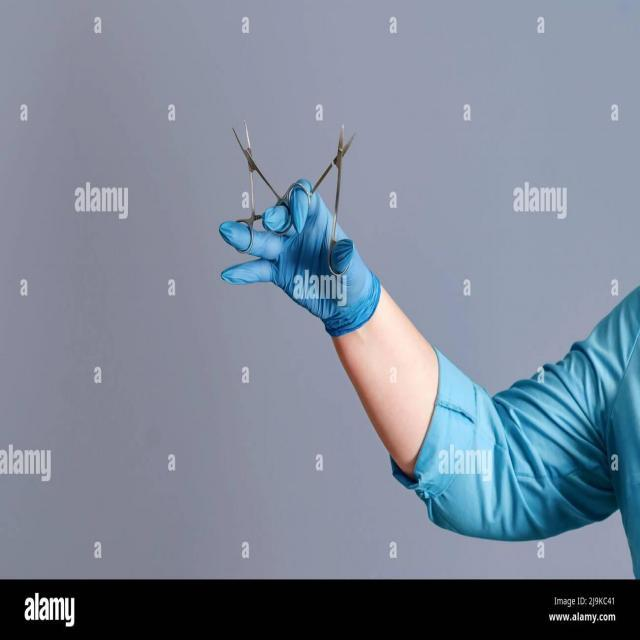scissors: (295, 124, 360, 275), (231, 119, 291, 253)
